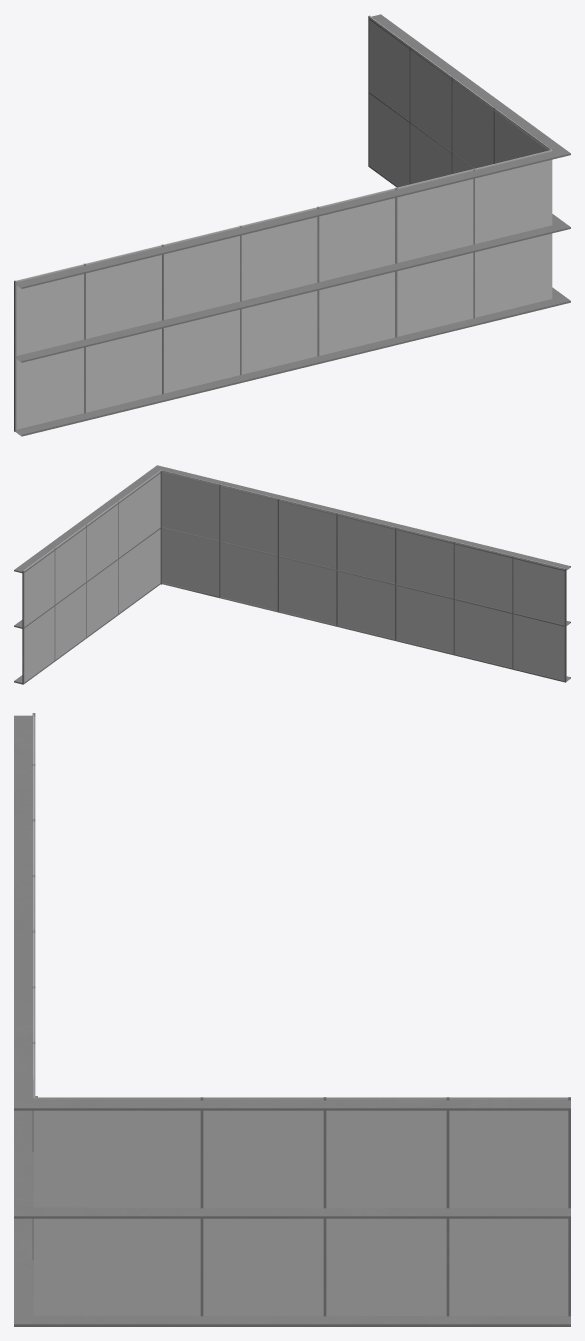
The model's file is SM_Wall_Windows_03.fbx.
3 renders of one model, top to bottom at view 1: azimuth 30°, elevation 25°; view 2: azimuth 150°, elevation 25°; view 3: azimuth 270°, elevation 25°, orthographic. The views are drawn at different scales.
Parts seen in each view (by area): view 1: SM_Wall_Windows_03_LOD0; view 2: SM_Wall_Windows_03_LOD0; view 3: SM_Wall_Windows_03_LOD0.
Part boxes in pixels (x1=…): SM_Wall_Windows_03_LOD0: x1=14, y1=14, x2=570, y2=436; SM_Wall_Windows_03_LOD0: x1=14, y1=465, x2=570, y2=684; SM_Wall_Windows_03_LOD0: x1=14, y1=713, x2=570, y2=1326.
Bounding box in the file's own units: 1740 × 1042 × 456.
